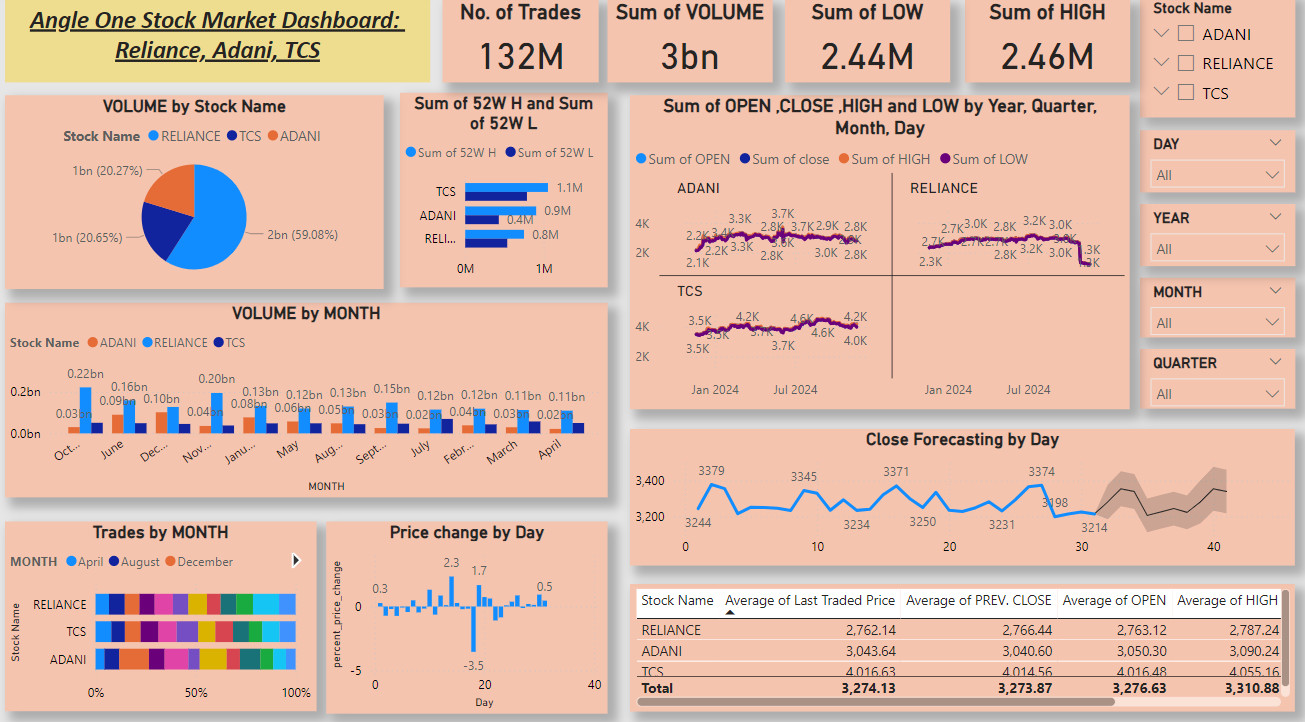

What the dashboard file says about the page in this screenshot:
{"tool":"powerbi","page":{"name":"Page 1","canvas":[1280,720],"ordinal":0},"visuals":[{"type":"slicer","fields":{"Values":["ADANI.Stock Name","ADANI.DATE.Variation.Date Hierarchy.Month"]},"box":[1115.2,0,151.6,121.1],"z":0},{"type":"clusteredColumnChart","title":"VOLUME by MONTH","fields":{"Category":["ADANI.MONTH"],"Y":["Sum(ADANI.VOLUME )"],"Series":["ADANI.Stock Name"]},"box":[4.9,302,589.4,190.8],"z":1000},{"type":"clusteredBarChart","title":"Sum of 52W H  and Sum of 52W L","fields":{"Category":["ADANI.Stock Name"],"Y":["Sum(ADANI.52W H )","Sum(ADANI.52W L )"]},"box":[391.3,96.6,203,190.8],"z":2000},{"type":"card","title":"No. of Trades","fields":{"Values":["Sum(ADANI.No of trades )"]},"box":[432.9,4.9,152.9,81.9],"z":3000},{"type":"slicer","fields":{"Values":["ADANI.MONTH"]},"box":[1115.2,277.6,151.6,58.7],"z":4000},{"type":"slicer","fields":{"Values":["ADANI.DAY"]},"box":[1115.2,133.3,151.6,61.1],"z":5000},{"type":"slicer","fields":{"Values":["ADANI.QUARTER"]},"box":[1115.2,347.3,151.6,58.7],"z":6000},{"type":"slicer","fields":{"Values":["ADANI.YEAR"]},"box":[1115.2,205.4,151.6,61.1],"z":7000},{"type":"card","title":"Sum of VOLUME","fields":{"Values":["Sum(ADANI.VOLUME )"]},"box":[594.3,4.9,161.4,81.9],"z":8000},{"type":"card","title":"Sum of HIGH","fields":{"Values":["Sum(ADANI.HIGH )"]},"box":[944,4.9,161.4,81.9],"z":9000},{"type":"hundredPercentStackedBarChart","title":"Trades by MONTH","fields":{"Category":["ADANI.Stock Name"],"Y":["Sum(ADANI.No of trades )"],"Series":["ADANI.MONTH"]},"box":[4.9,516,304.5,185.9],"z":10000},{"type":"lineChart","title":"Sum of OPEN ,CLOSE ,HIGH and LOW  by Year, Quarter, Month, Day","fields":{"Y":["Sum(ADANI.OPEN )","Sum(ADANI.close )","Sum(ADANI.HIGH )","Sum(ADANI.LOW )"],"Rows":["ADANI.Stock Name"],"Category":["ADANI.DATE.Variation.Date Hierarchy.Year","ADANI.DATE.Variation.Date Hierarchy.Quarter","ADANI.DATE.Variation.Date Hierarchy.Month","ADANI.DATE.Variation.Date Hierarchy.Day"]},"box":[616.3,99,489.1,306.9],"z":11000},{"type":"tableEx","fields":{"Values":["ADANI.Stock Name","Avg(ADANI.Last Traded Price)","Avg(ADANI.PREV. CLOSE )","Avg(ADANI.OPEN )","Avg(ADANI.HIGH )","Avg(ADANI.LOW )","Avg(ADANI.close )"]},"box":[616.3,577.2,650.5,124.7],"z":12000},{"type":"textbox","box":[4.9,4.9,415.8,81.9],"z":13000},{"type":"lineChart","title":"Close Forecasting  by Day","fields":{"Category":["ADANI.DATE.Variation.Date Hierarchy.Day"],"Y":["Avg(ADANI.close )"]},"box":[616.3,425.5,650.5,133.3],"z":14000},{"type":"card","title":"Sum of LOW","fields":{"Values":["Sum(ADANI.close )"]},"box":[767.9,4.9,161.4,81.9],"z":15000},{"type":"pieChart","title":"VOLUME by Stock Name","fields":{"Y":["Sum(ADANI.VOLUME )"],"Category":["ADANI.Stock Name"]},"box":[4.9,99,370.5,189.5],"z":16000},{"type":"columnChart","title":"Price change by Day","fields":{"Category":["ADANI.DATE.Variation.Date Hierarchy.Day"],"Y":["ADANI.percent_price_change"]},"box":[319.2,516,275.1,188.3],"z":17000}]}

Visuals, with their boxes in screenshot pixels (x1, y1, x2, y2), scaled from the page's 1280x720 canvas onto the 1305x722 screenshot:
slicer - ADANI.Stock Name x ADANI.DATE.Variation.Date Hierarchy.Month: 1137/0/1292/121
"VOLUME by MONTH" clusteredColumnChart: 5/303/606/494
"Sum of 52W H  and Sum of 52W L" clusteredBarChart: 399/97/606/288
"No. of Trades" card: 441/5/597/87
slicer - ADANI.MONTH: 1137/278/1292/337
slicer - ADANI.DAY: 1137/134/1292/195
slicer - ADANI.QUARTER: 1137/348/1292/407
slicer - ADANI.YEAR: 1137/206/1292/267
"Sum of VOLUME" card: 606/5/770/87
"Sum of HIGH" card: 962/5/1127/87
"Trades by MONTH" hundredPercentStackedBarChart: 5/517/315/704
"Sum of OPEN ,CLOSE ,HIGH and LOW  by Year, Quarter, Month, Day" lineChart: 628/99/1127/407
tableEx - ADANI.Stock Name x Avg(ADANI.Last Traded Price): 628/579/1292/704
textbox: 5/5/429/87
"Close Forecasting  by Day" lineChart: 628/427/1292/560
"Sum of LOW" card: 783/5/947/87
"VOLUME by Stock Name" pieChart: 5/99/383/289
"Price change by Day" columnChart: 325/517/606/706
